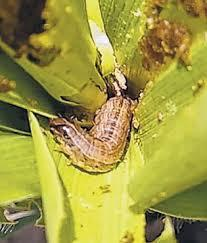fallarmy_worm: (49, 95, 140, 174)
